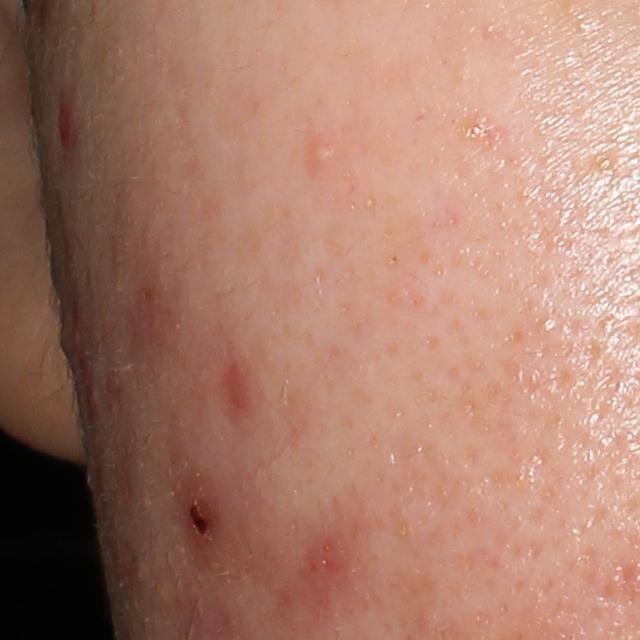papule: (177, 478, 223, 541), (51, 98, 76, 150)
pustule: (304, 137, 337, 172)
